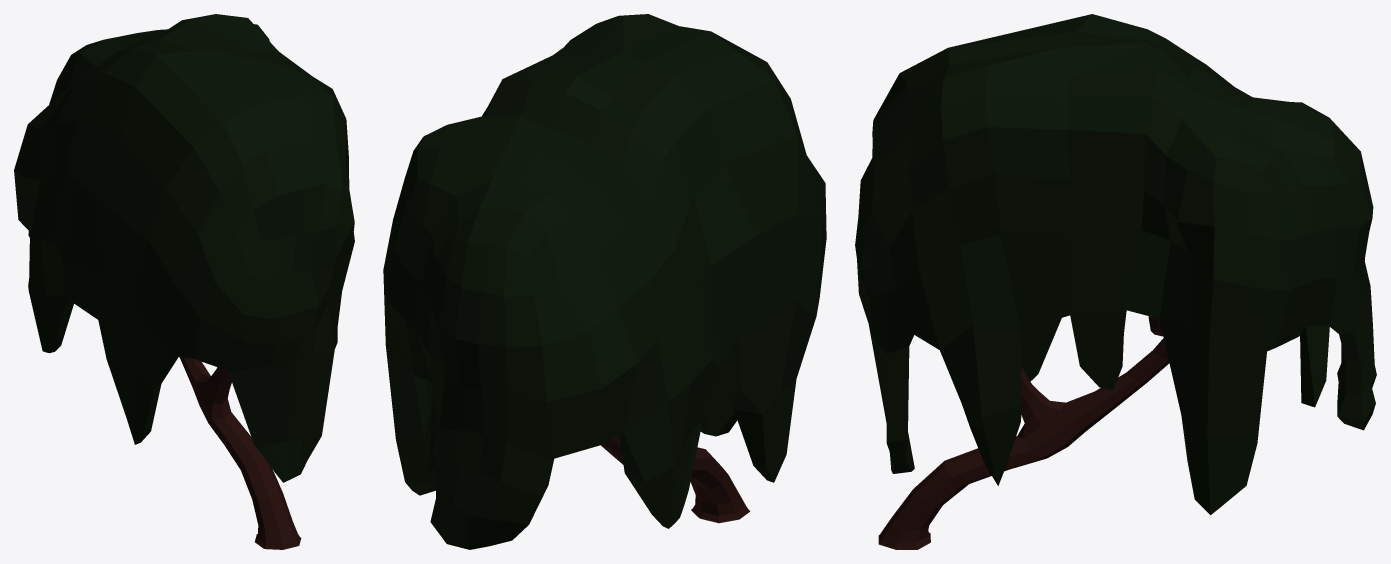
File: Willow_2.glb
The picture shows the model from 3 angles, left to right: view 1: azimuth 30°, elevation 25°; view 2: azimuth 150°, elevation 25°; view 3: azimuth 270°, elevation 25°; orthographic projection. The views are drawn at different scales.
Visible parts, largest first — view 1: Willow_2_Cube.011; view 2: Willow_2_Cube.011; view 3: Willow_2_Cube.011.
Boxes of the visible parts, <box> form: Willow_2_Cube.011: <box>14,14,354,549</box>; Willow_2_Cube.011: <box>383,14,826,549</box>; Willow_2_Cube.011: <box>855,14,1376,549</box>.
Bounding box in the file's own units: 1.95 × 3.32 × 3.11.
